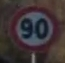limite 90: (10, 5, 59, 53)
